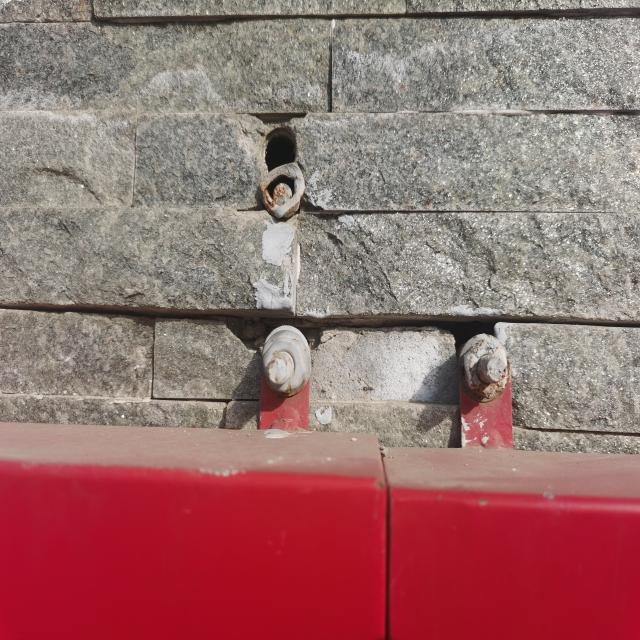bolt nut: (462, 334, 511, 402), (260, 333, 309, 396)
